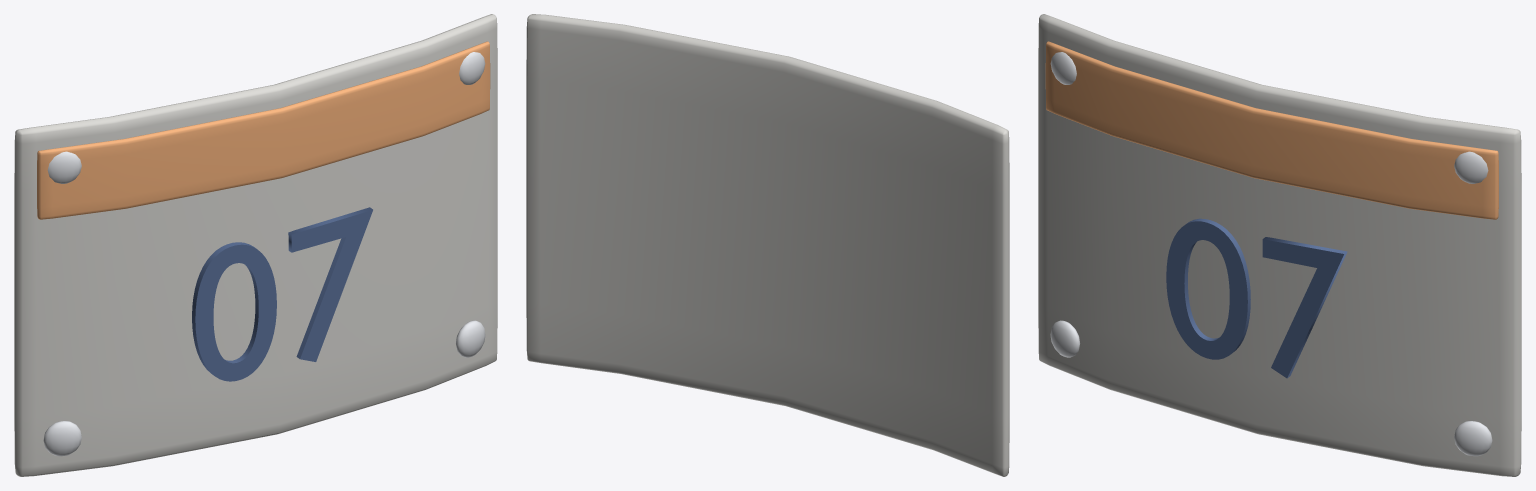
Rendered from bib_runner.fbx.
3 renders of one model, left to right at view 1: azimuth 30°, elevation 25°; view 2: azimuth 150°, elevation 25°; view 3: azimuth 330°, elevation 25°, orthographic.
Visible parts, largest first — view 1: Bib_Plate, Bib_Stripe, Bib_Number, Bib_Pin_-1_-1, Bib_Pin_1_-1, Bib_Pin_-1_1, Bib_Pin_1_1; view 2: Bib_Plate; view 3: Bib_Plate, Bib_Stripe, Bib_Number, Bib_Pin_1_-1, Bib_Pin_-1_-1, Bib_Pin_1_1, Bib_Pin_-1_1.
Boxes of the visible parts, x1,y1,x2,y2 form: Bib_Plate: (14, 14, 497, 476); Bib_Stripe: (37, 41, 490, 219); Bib_Number: (192, 207, 372, 381); Bib_Pin_-1_-1: (43, 421, 81, 456); Bib_Pin_1_-1: (455, 320, 485, 357); Bib_Pin_-1_1: (47, 151, 81, 183); Bib_Pin_1_1: (459, 52, 485, 84); Bib_Plate: (526, 14, 1009, 476); Bib_Plate: (1038, 14, 1521, 476); Bib_Stripe: (1045, 41, 1498, 219); Bib_Number: (1166, 218, 1347, 378); Bib_Pin_1_-1: (1454, 421, 1492, 456); Bib_Pin_-1_-1: (1050, 320, 1080, 357); Bib_Pin_1_1: (1454, 151, 1488, 183); Bib_Pin_-1_1: (1050, 52, 1076, 84).
Bounding box in the file's own units: 0.13 × 0.09 × 0.0141.
